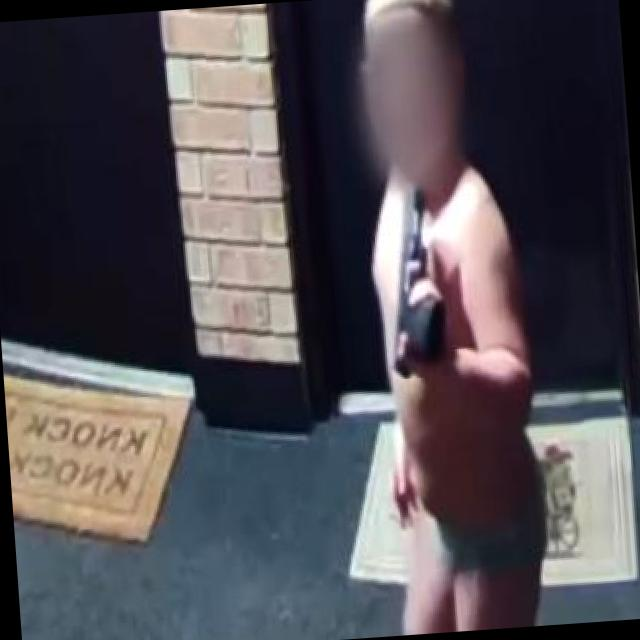Guns: (367, 168, 462, 409)
